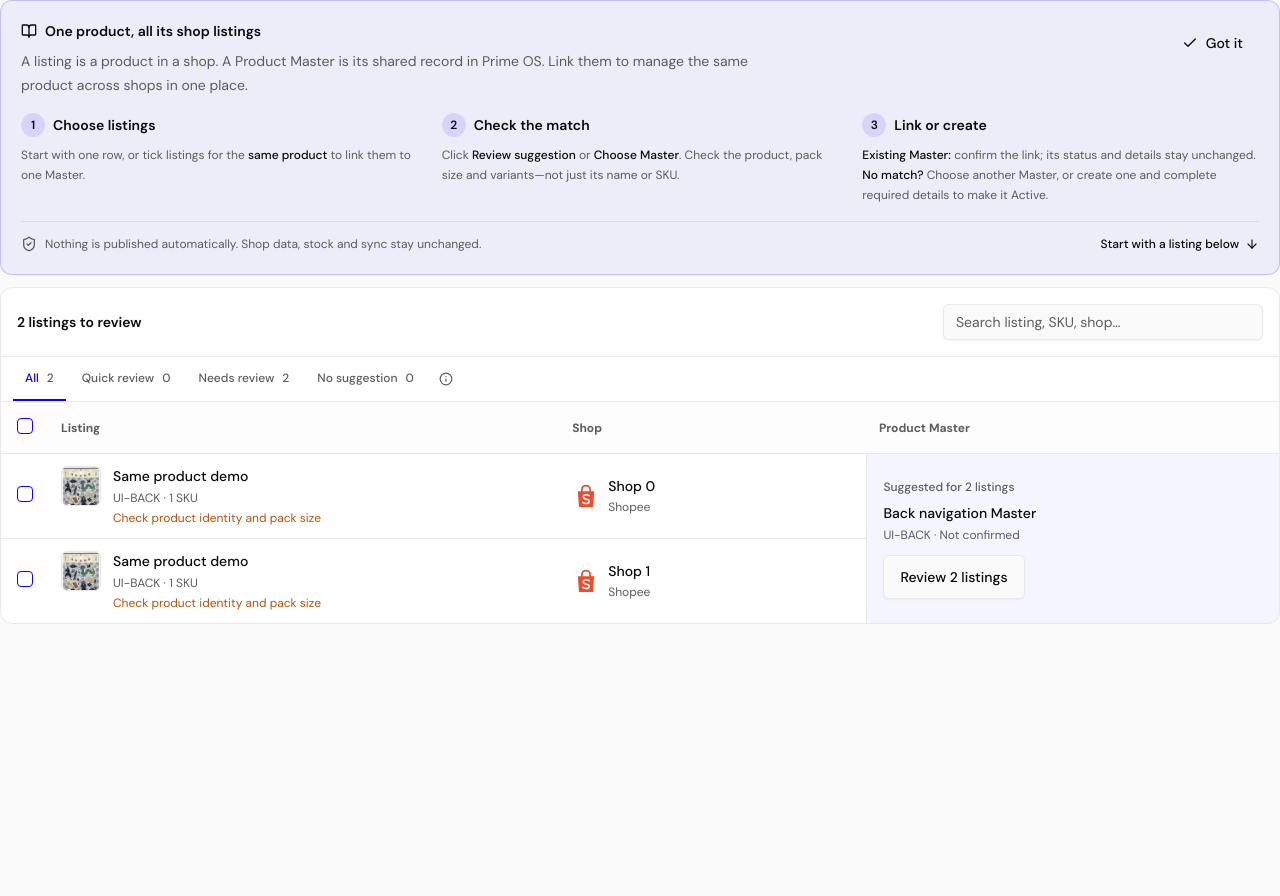
Test: Listing review drawer › returns from comparison to the same filtered listing queue without confirming or advancing
In the field named "Search shop listings": (1103, 322) [943,304,1263,340], type "Shop 0"
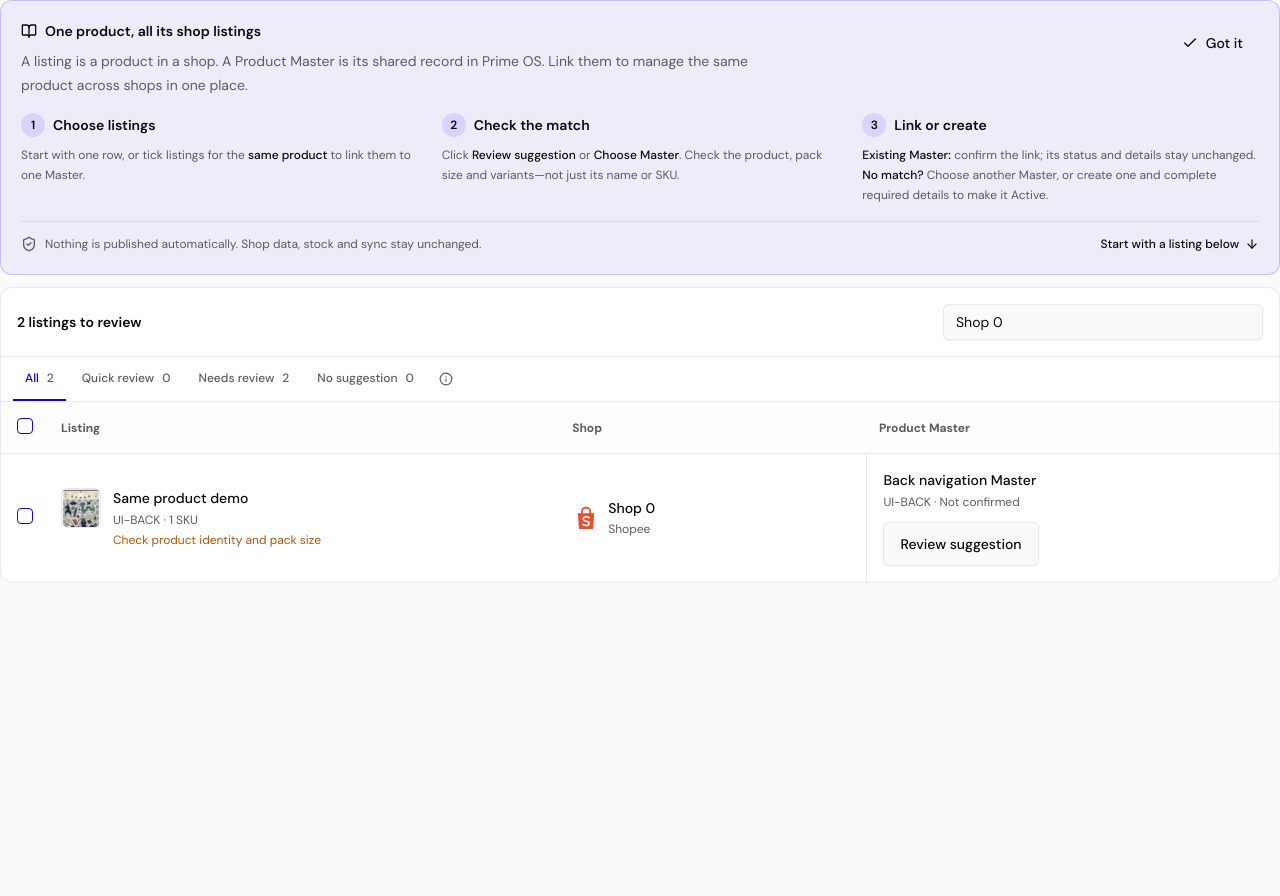
Click the button "Review suggestion": (961, 544) [883,522,1038,566]
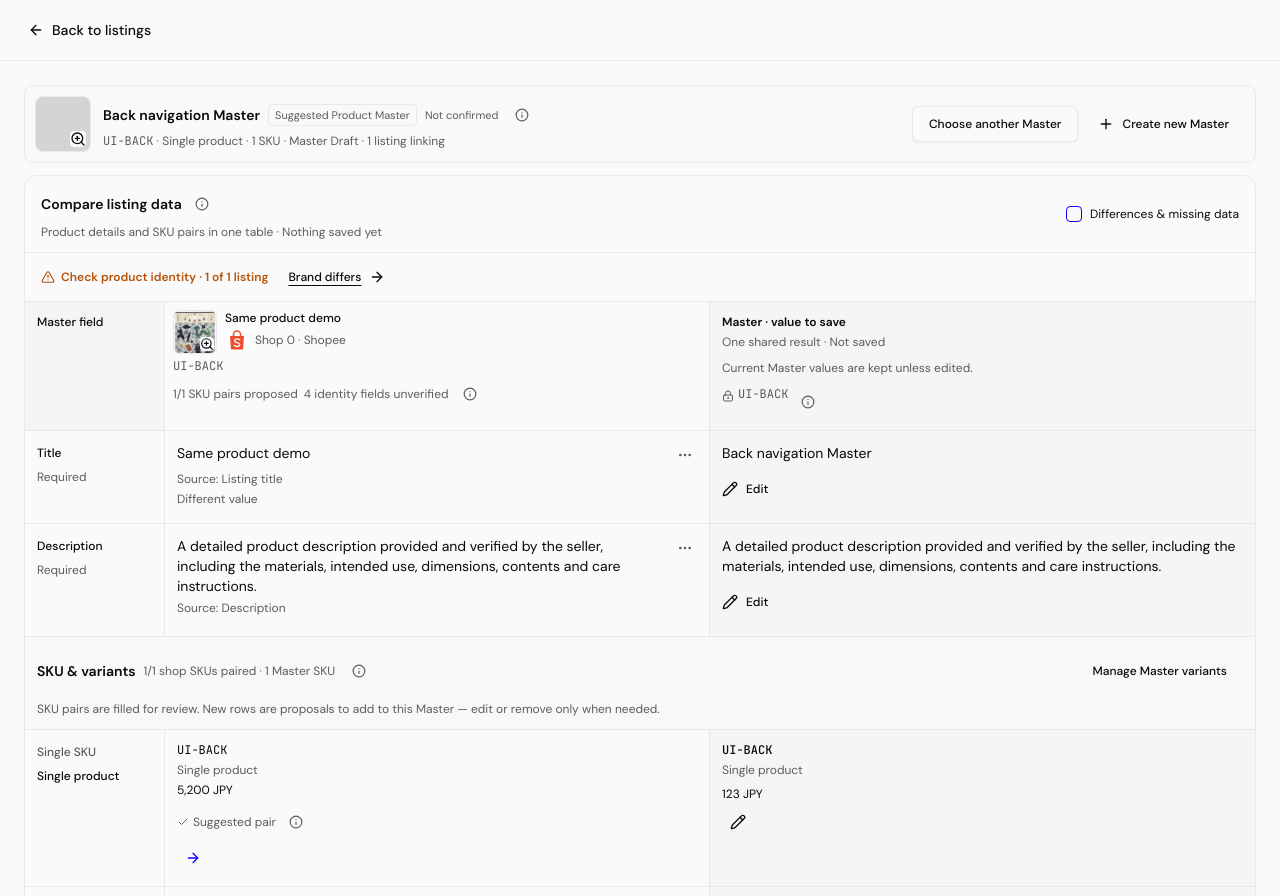
Expected: the element named "Differences to check" is shown, [41,261,393,293]
Click the button "Back to listings": (90, 30) [12,8,167,52]
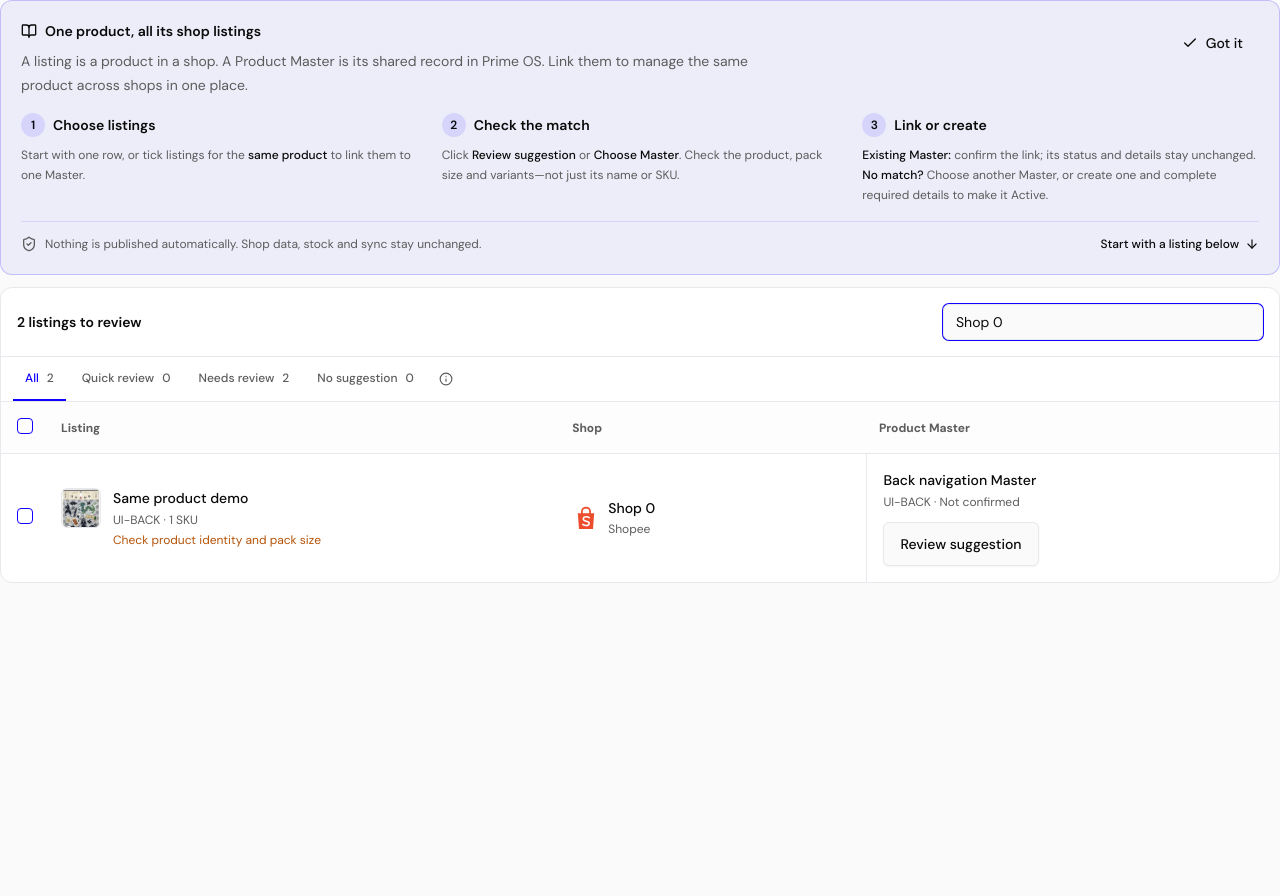
Expected: the heading "2 listings to review" is shown, [17,312,142,332]
Expected: the field named "Search shop listings" holds "Shop 0", [943,304,1263,340]
Expected: the number of buttons "Review suggestion" is 1, [883,522,1038,566]
